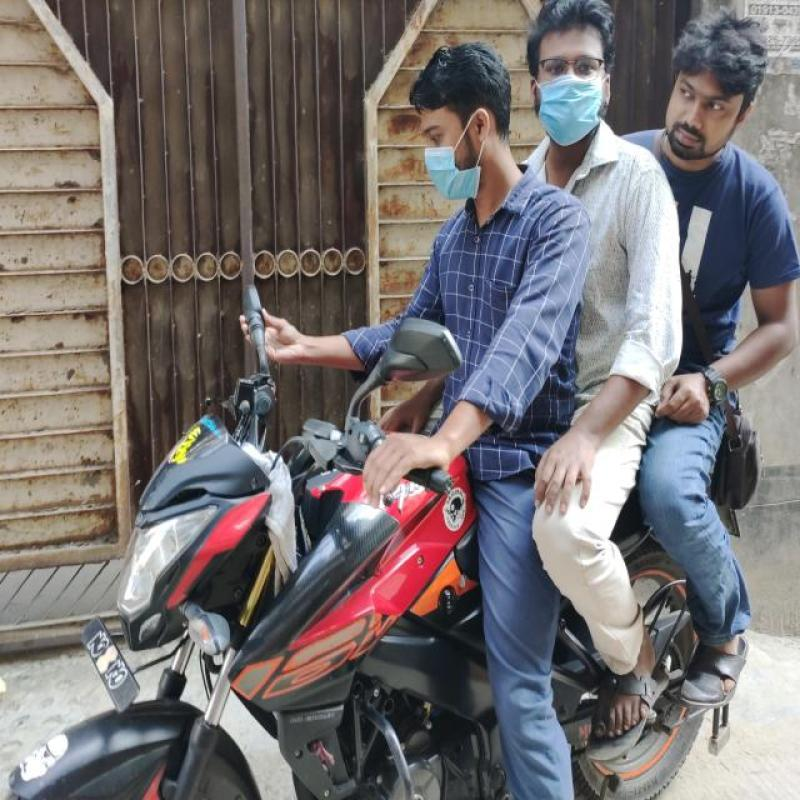nohelmet: (404, 22, 524, 224), (664, 3, 780, 192), (532, 5, 614, 170)
